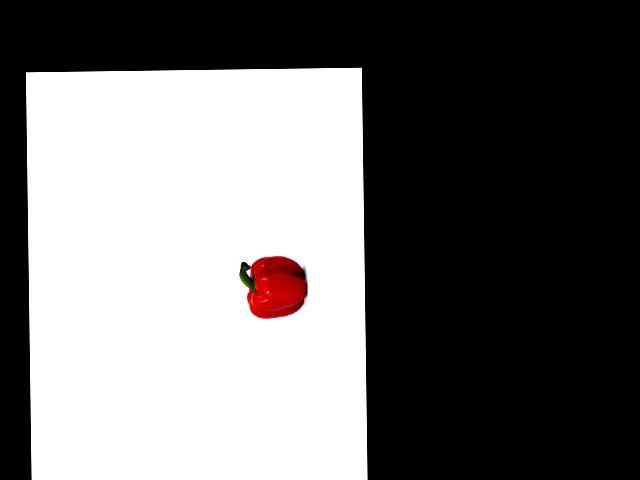bell_pepper: (238, 254, 306, 322)
